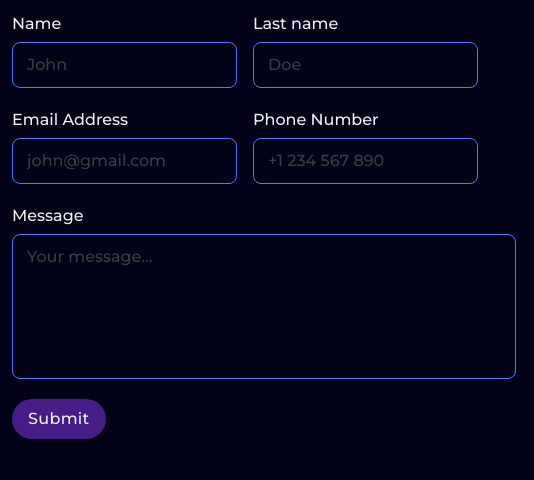
it: ContactForm › shows error message when submission fails
Type "Jane" into the field with placeholder "John".
click(124, 65); type("Jane")  # box [12,42,237,88]
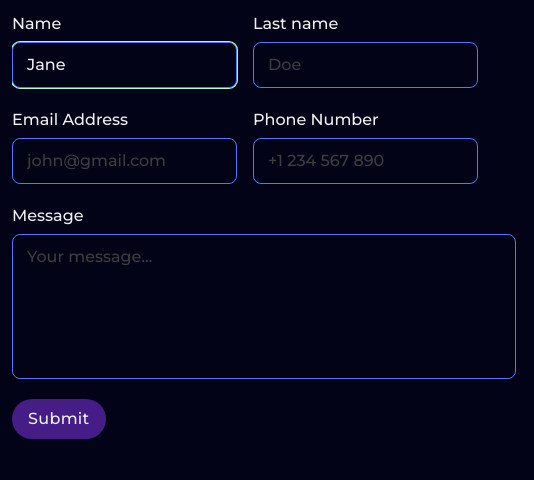
Type "Smith" into the field with placeholder "Doe".
click(366, 65); type("Smith")  # box [253,42,478,88]
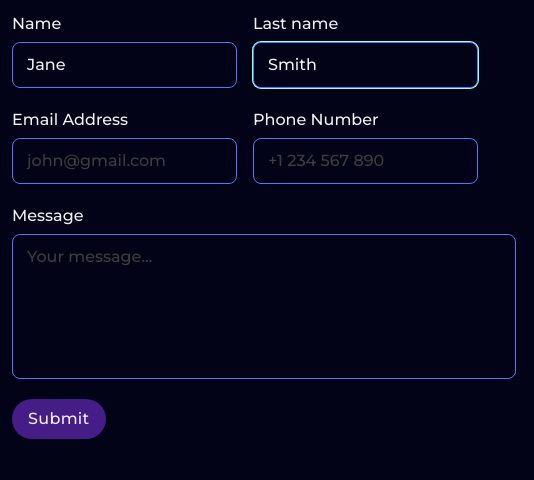
Type "jane@example.com" into the field with placeholder "john@gmail.com".
click(124, 161); type("jane@example.com")  # box [12,138,237,184]
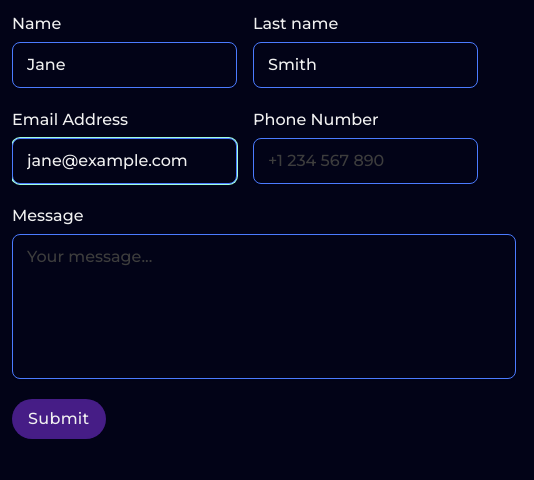
Type "Hello there" into the text box with placeholder "Your message...".
click(264, 306); type("Hello there")  # box [12,234,516,379]
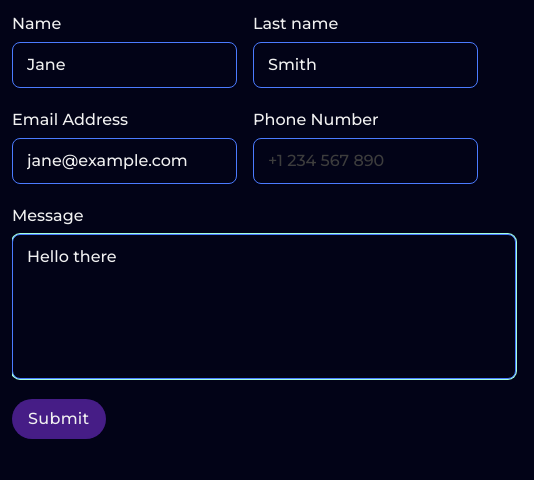
Click the button "Submit".
click(59, 419)  # box [12,399,106,439]
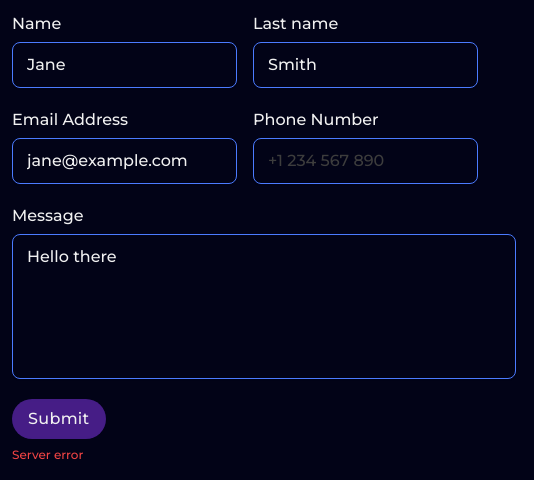
Check: the text "Server error" is shown, box [12,447,83,463]
